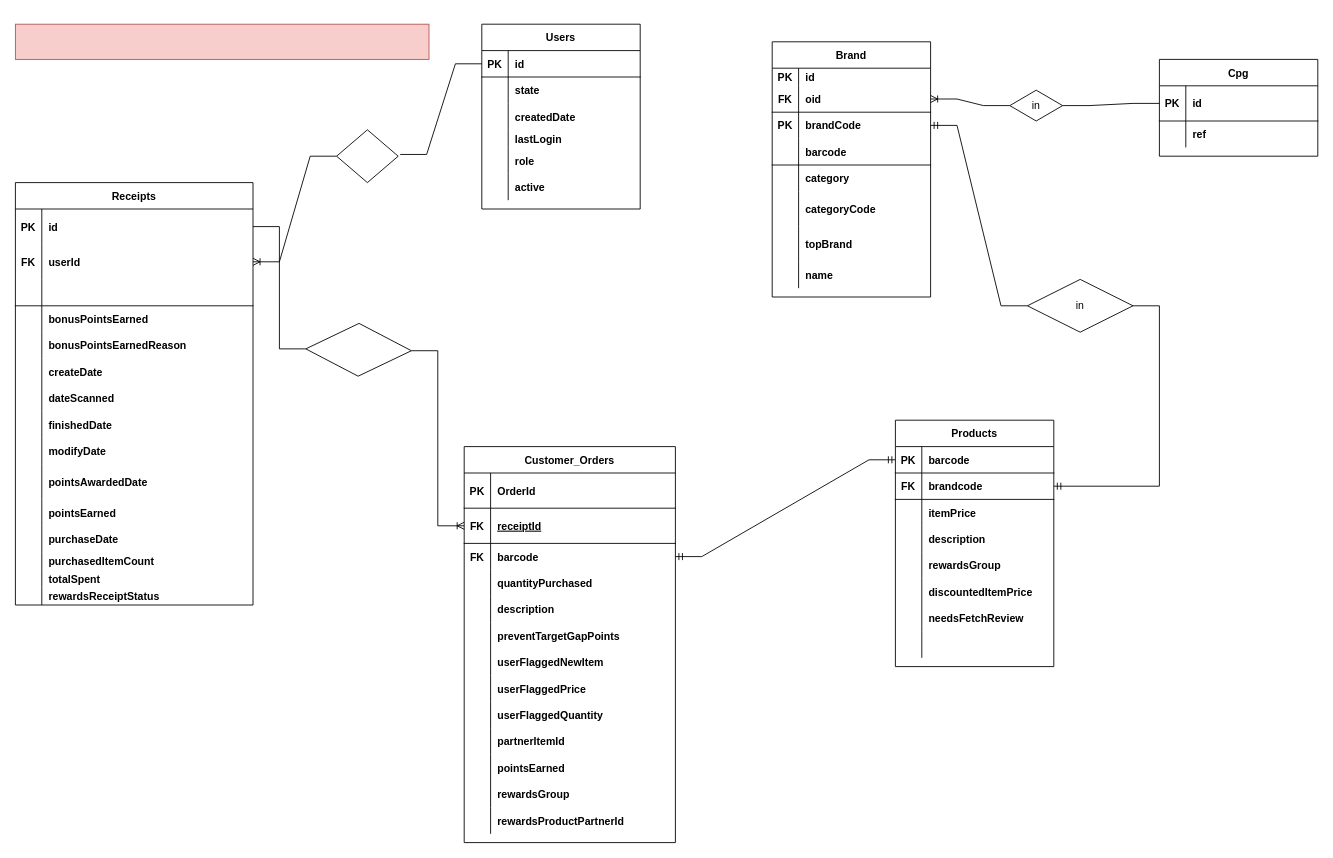
Image size: 1333x858. Some labels were removed from this diagram. The shapes that lost their labels are listed below. From the top down, each one's centre as x and y in pixels, then its label:
At pixel 222 41: "Receipts-Users ER Diagram".
At pixel 367 156: "Scanned".
At pixel 358 349: "Contain".
